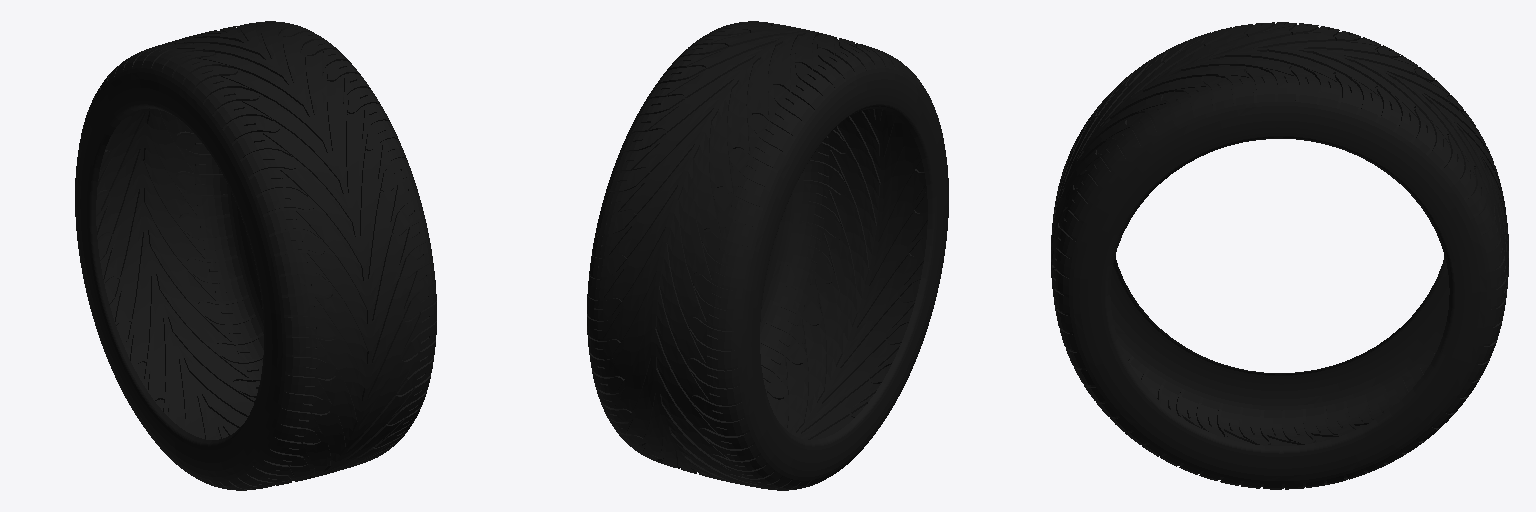
The model's file is llantaTD.obj.
3 renders of one model, left to right at view 1: azimuth 30°, elevation 25°; view 2: azimuth 150°, elevation 25°; view 3: azimuth 270°, elevation 25°, orthographic.
Visible parts, largest first — view 1: pasted__HDM_01_03_tire_03; view 2: pasted__HDM_01_03_tire_03; view 3: pasted__HDM_01_03_tire_03.
Part boxes in pixels (x1,y1,x2,y2): pasted__HDM_01_03_tire_03: (75, 21, 436, 490); pasted__HDM_01_03_tire_03: (587, 21, 948, 490); pasted__HDM_01_03_tire_03: (1051, 22, 1508, 489).
Bounding box in the file's own units: 0.4401 × 1.1 × 1.1.